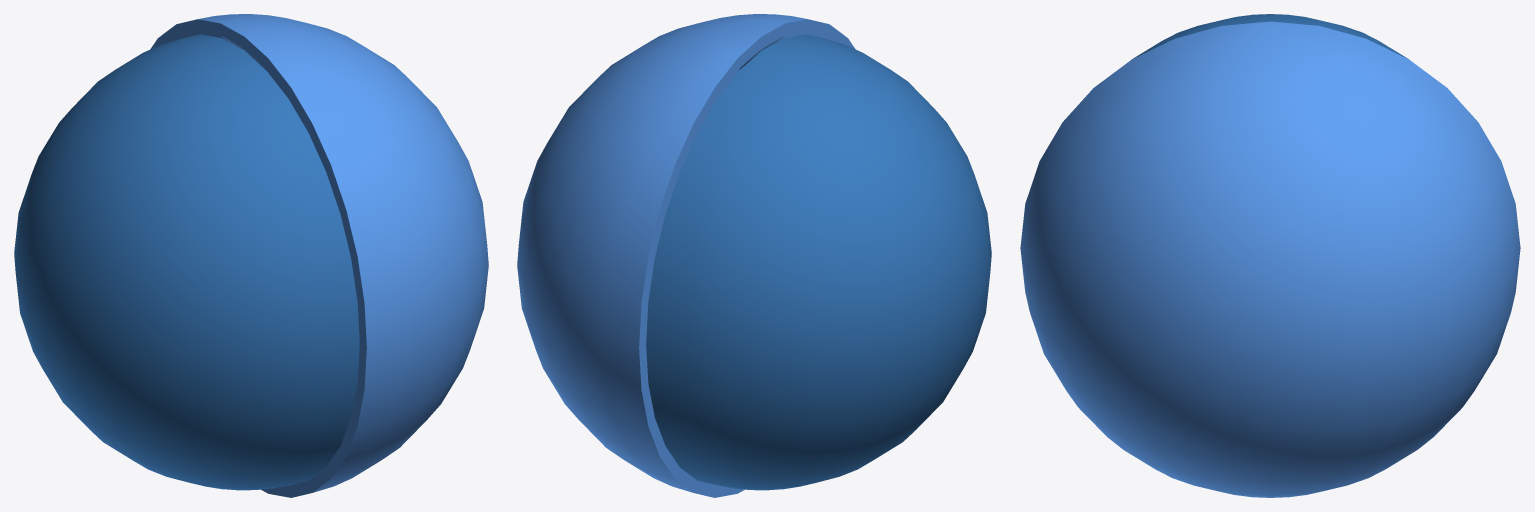
Rendered from Bola3.fbx.
The picture shows the model from 3 angles, left to right: view 1: azimuth 30°, elevation 25°; view 2: azimuth 150°, elevation 25°; view 3: azimuth 270°, elevation 25°; orthographic projection. The views are drawn at different scales.
Parts seen in each view (by area): view 1: bola3mitadoscura, bola3mitadclara; view 2: bola3mitadoscura, bola3mitadclara; view 3: bola3mitadclara, bola3mitadoscura.
Boxes of the visible parts, x1,y1,x2,y2 form: bola3mitadoscura: (14, 34, 359, 490); bola3mitadclara: (150, 14, 488, 497); bola3mitadoscura: (646, 34, 991, 490); bola3mitadclara: (517, 14, 855, 497); bola3mitadclara: (1020, 21, 1520, 497); bola3mitadoscura: (1132, 14, 1408, 59).
Bounding box in the file's own units: 107 × 110 × 110.
